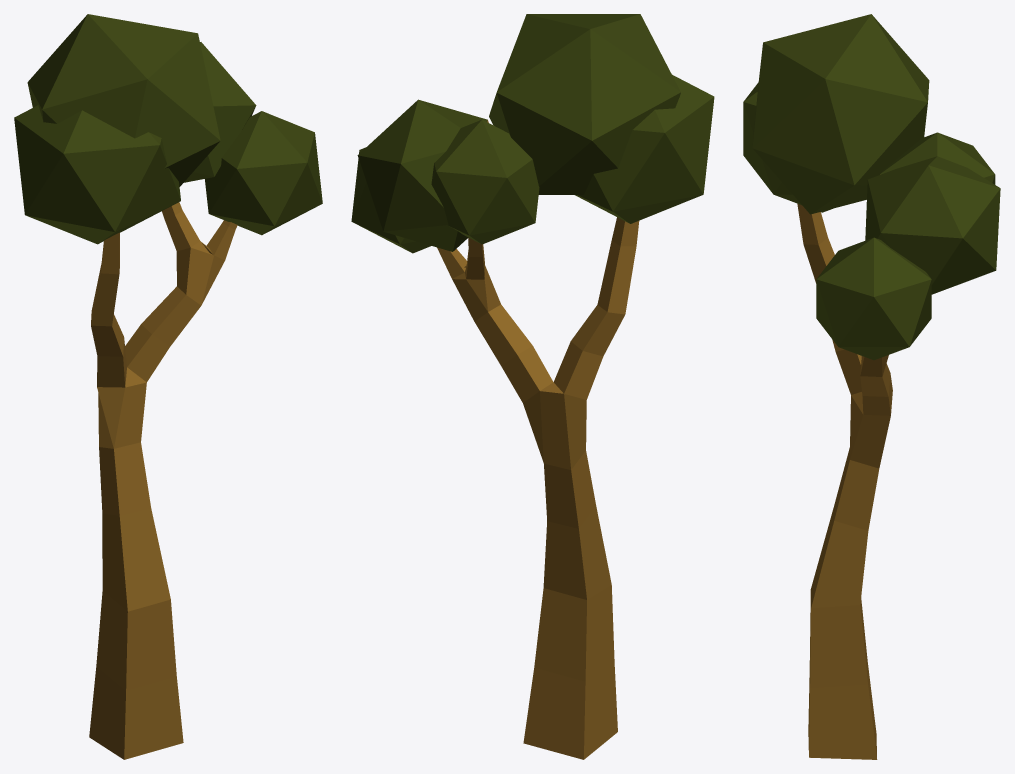
Rendered from SmallTree.fbx.
3 renders of one model, left to right at view 1: azimuth 30°, elevation 25°; view 2: azimuth 150°, elevation 25°; view 3: azimuth 270°, elevation 25°, orthographic.
Visible parts, largest first — view 1: Small Tree; view 2: Small Tree; view 3: Small Tree.
Part boxes in pixels (x1,y1,x2,y2): Small Tree: [14, 14, 322, 759]; Small Tree: [351, 14, 714, 759]; Small Tree: [743, 14, 1000, 759].
Bounding box in the file's own units: 334 × 733 × 238.
